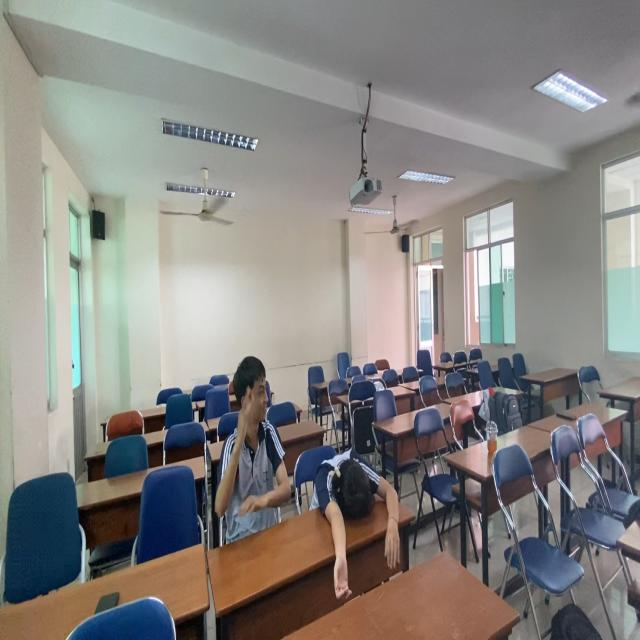raise_hand: (212, 356, 290, 522)
sleep: (311, 444, 402, 569)
